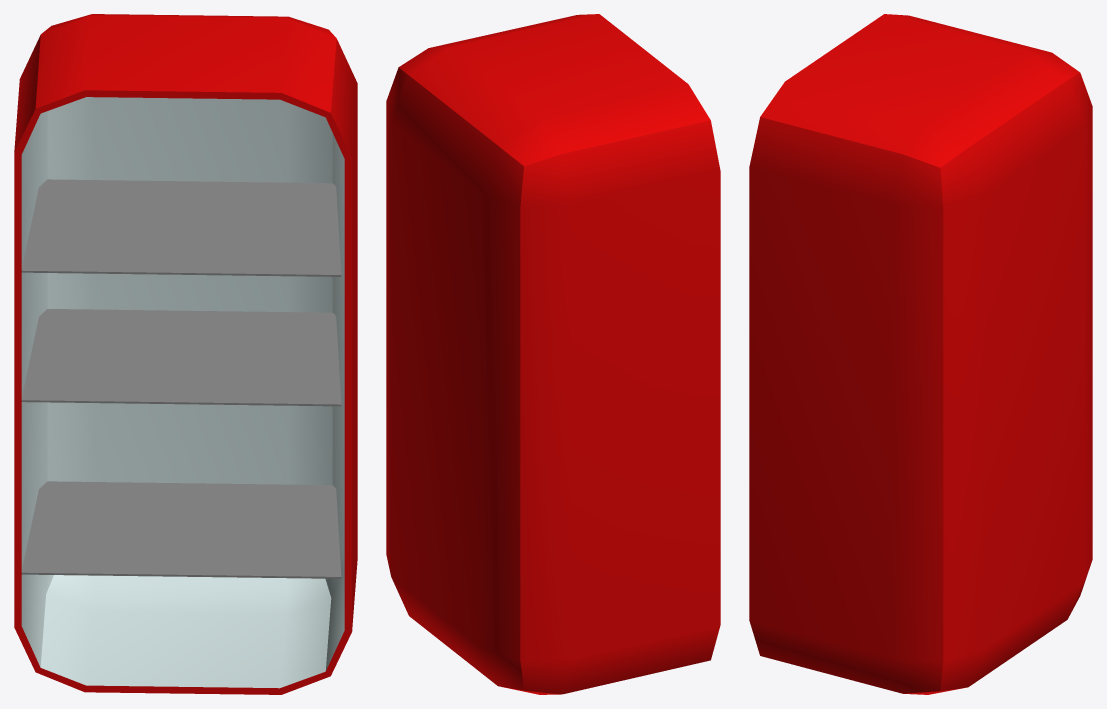
File: Refrigerador.fbx
3 renders of one model, left to right at view 1: azimuth 30°, elevation 25°; view 2: azimuth 150°, elevation 25°; view 3: azimuth 270°, elevation 25°, orthographic. The views are drawn at different scales.
Visible parts, largest first — view 1: polySurface64; view 2: polySurface64; view 3: polySurface64.
Part boxes in pixels (x1,y1,x2,y2): polySurface64: [14, 14, 357, 694]; polySurface64: [386, 14, 720, 694]; polySurface64: [749, 14, 1092, 694].
Bounding box in the file's own units: 24.4 × 41.74 × 22.55.
